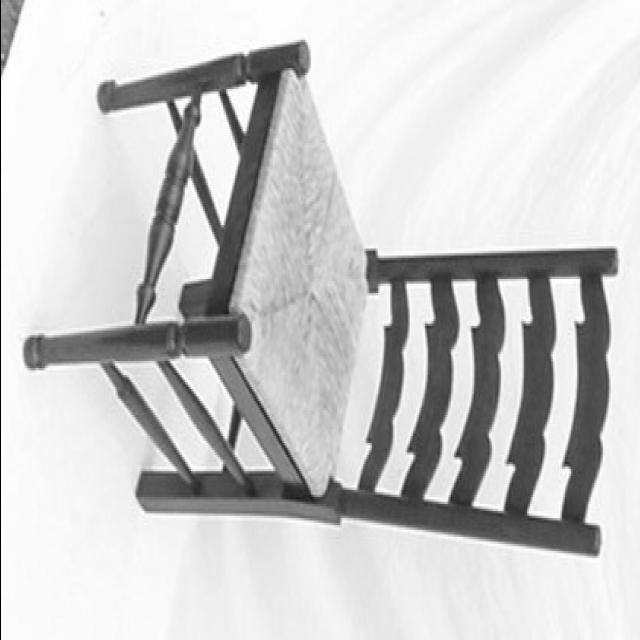chair: (22, 34, 622, 560)
